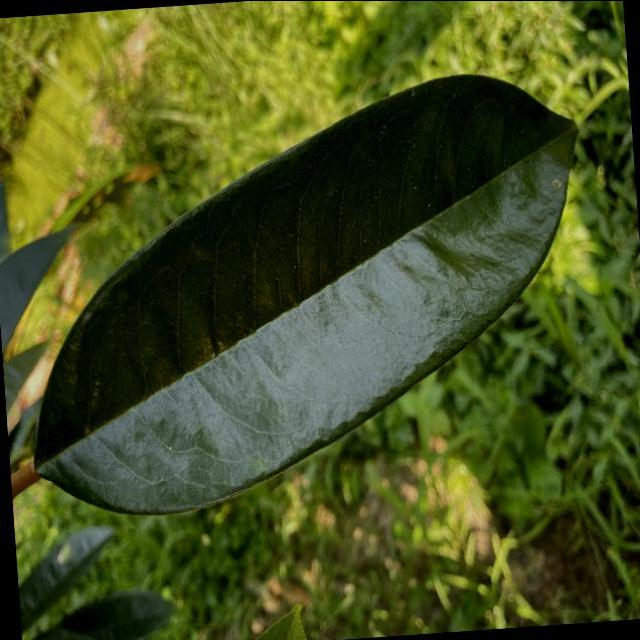No Disease: (0, 52, 613, 530)
